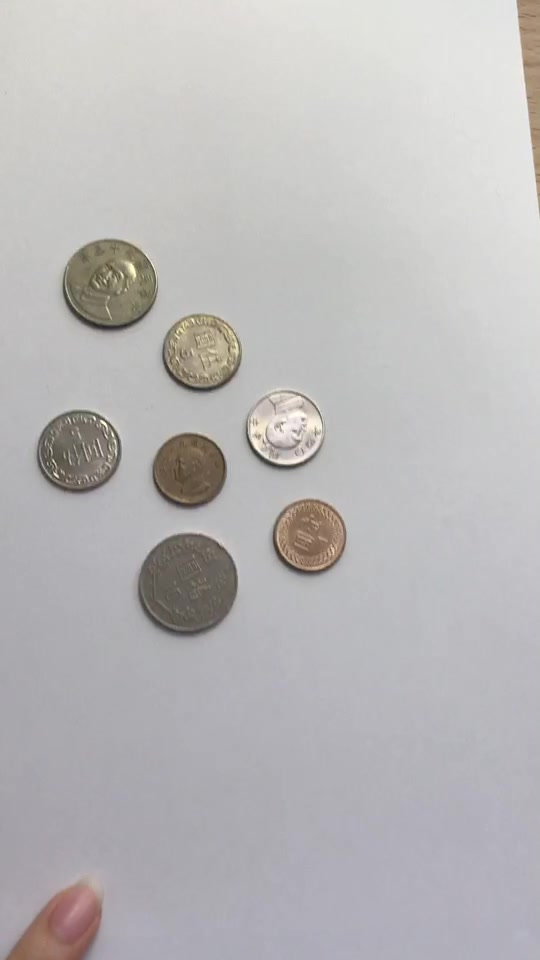1 dallar: (266, 492, 355, 579), (145, 425, 227, 514)
10 dallar: (126, 527, 250, 641), (56, 229, 160, 332)
5 dallar: (31, 406, 127, 495), (155, 307, 251, 396), (241, 384, 337, 473)
